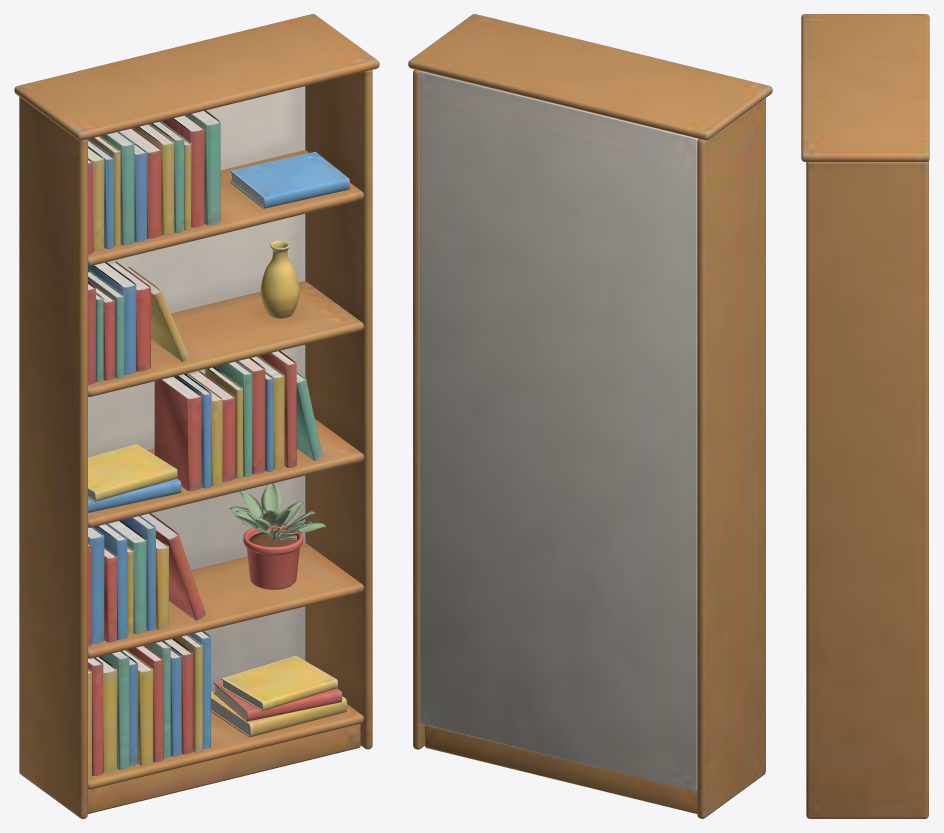
File: bookshelf.glb
3 views of the same model, side by side, from view 1: azimuth 30°, elevation 25°; view 2: azimuth 150°, elevation 25°; view 3: azimuth 270°, elevation 25° (orthographic). The views are drawn at different scales.
Parts seen in each view (by area): view 1: bookshelf_body, bookshelf_plant; view 2: bookshelf_body; view 3: bookshelf_body.
Part boxes in pixels (x1,y1,x2,y2): bookshelf_body: [14, 14, 379, 818]; bookshelf_plant: [229, 483, 326, 589]; bookshelf_body: [408, 14, 772, 818]; bookshelf_body: [801, 14, 929, 818].
Bounding box in the file's own units: 0.824 × 1.8 × 0.314.
2 materials, 2 textured.
